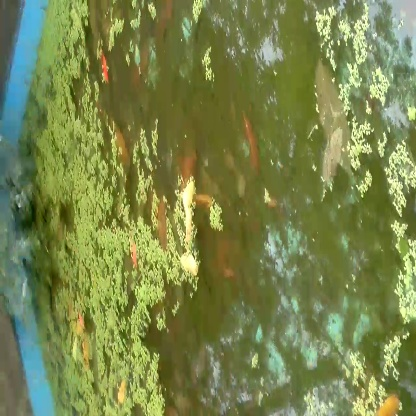leaf: (309, 64, 366, 190)
